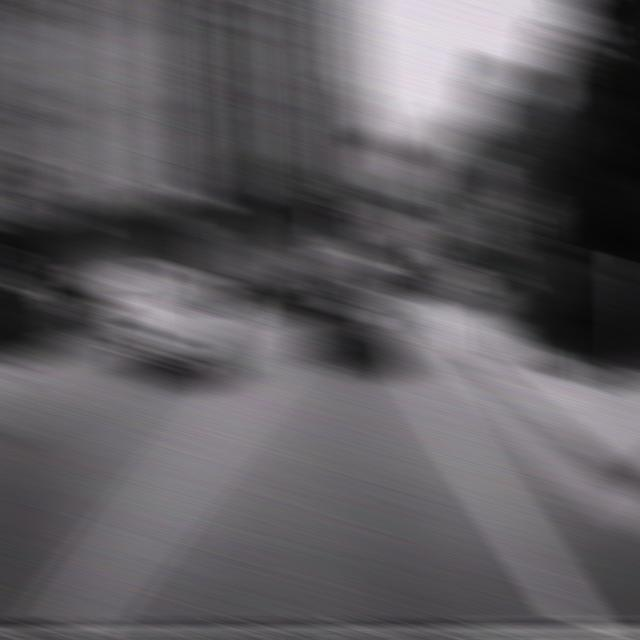stop_sign: (497, 183, 545, 235)
